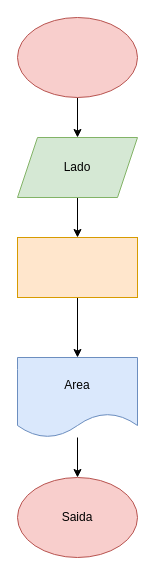
Some shapes in this 155 by 575 pixel diagram are drawn without their labels. The box of each missing label's shape, as (x1, y1, x2, y2) in pixels:
Area = Lado * Lado: (16, 236, 138, 298)
Inicio: (16, 16, 138, 98)
